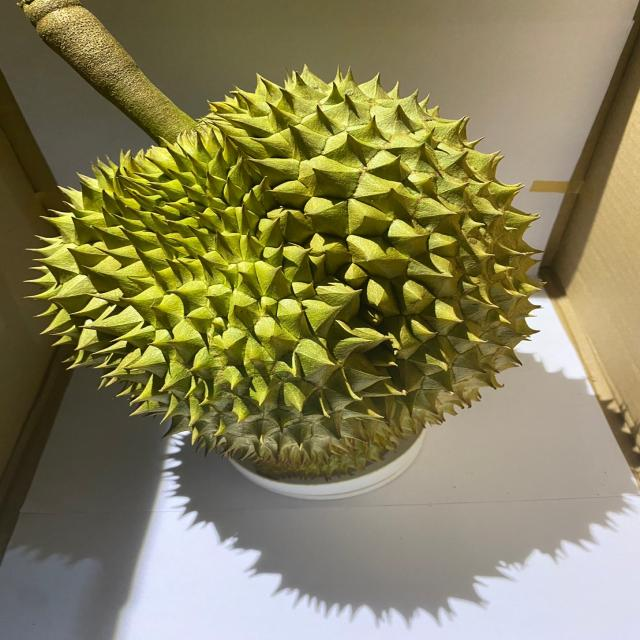immature: (31, 63, 544, 475)
